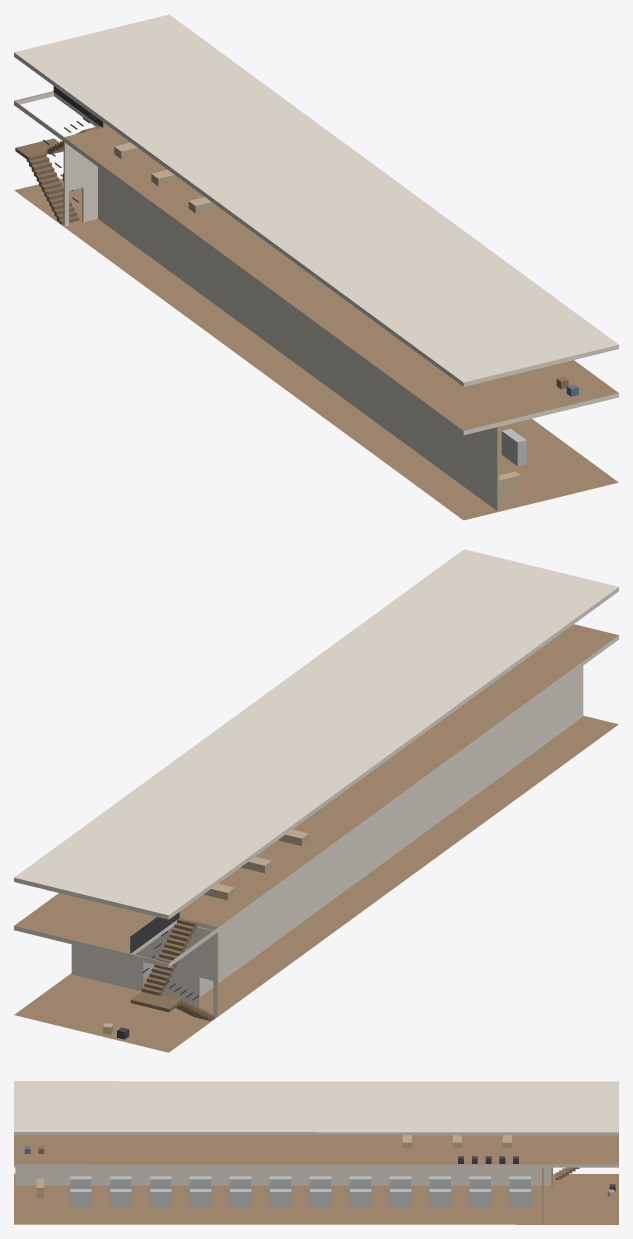
File: interior.glb
3 renders of one model, top to bottom at view 1: azimuth 30°, elevation 25°; view 2: azimuth 150°, elevation 25°; view 3: azimuth 270°, elevation 25°, orthographic. The views are drawn at different scales.
Visible parts, largest first — view 1: slabs, partitions, stair, coarse-s1, coarse-s0; view 2: slabs, partitions, stair, coarse-s1; view 3: slabs, coarse-s0, partitions, coarse-s1.
Boxes of the visible parts, left/top/right/bottom form: slabs: left=14, top=14, right=618, bottom=520; partitions: left=63, top=142, right=499, bottom=511; stair: left=15, top=86, right=103, bottom=224; coarse-s1: left=114, top=142, right=578, bottom=396; coarse-s0: left=63, top=173, right=526, bottom=495; slabs: left=14, top=549, right=618, bottom=1052; partitions: left=71, top=666, right=583, bottom=1016; stair: left=130, top=912, right=215, bottom=1020; coarse-s1: left=203, top=829, right=308, bottom=900; slabs: left=14, top=1081, right=618, bottom=1224; coarse-s0: left=36, top=1176, right=615, bottom=1207; partitions: left=15, top=1167, right=552, bottom=1224; coarse-s1: left=24, top=1135, right=518, bottom=1163.
Size of the model in its own units: 9.71 by 8.2 by 48.46.
